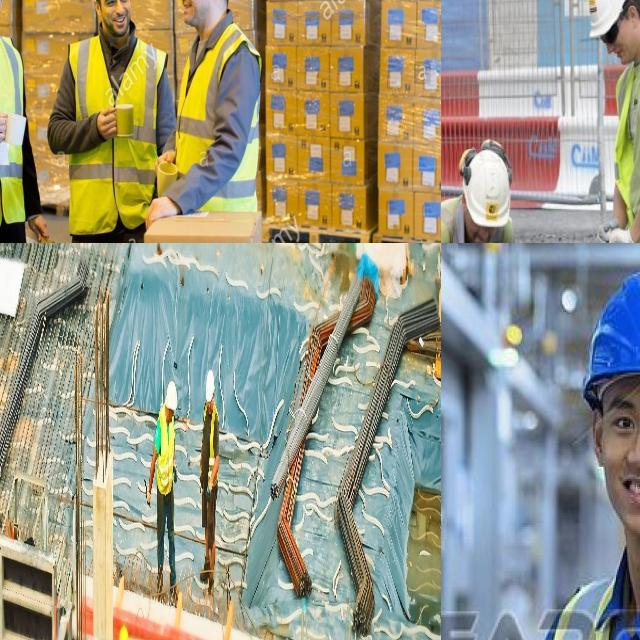No_Ear-Protection: (92, 0, 101, 16)
No_Glasses: (102, 0, 131, 9)
face_nomask: (597, 380, 640, 541), (598, 18, 640, 68), (99, 0, 136, 45), (176, 0, 214, 30)
hand_glove: (594, 217, 639, 243), (144, 478, 151, 511), (208, 468, 213, 500)
hand_noglove: (93, 100, 123, 146), (146, 195, 176, 229), (26, 210, 54, 243), (0, 106, 9, 153)
head_helmet: (583, 266, 640, 388), (460, 140, 513, 227), (588, 0, 640, 36), (164, 380, 177, 417), (204, 370, 215, 398), (117, 630, 132, 640)
person: (478, 256, 640, 640), (62, 0, 161, 243), (162, 0, 265, 210), (589, 0, 640, 243), (0, 0, 46, 243), (197, 366, 225, 591), (152, 382, 180, 586)
vest: (71, 34, 161, 232), (177, 36, 256, 211), (0, 26, 44, 216), (615, 35, 640, 243), (441, 189, 490, 243), (156, 417, 175, 491), (201, 421, 220, 491)
